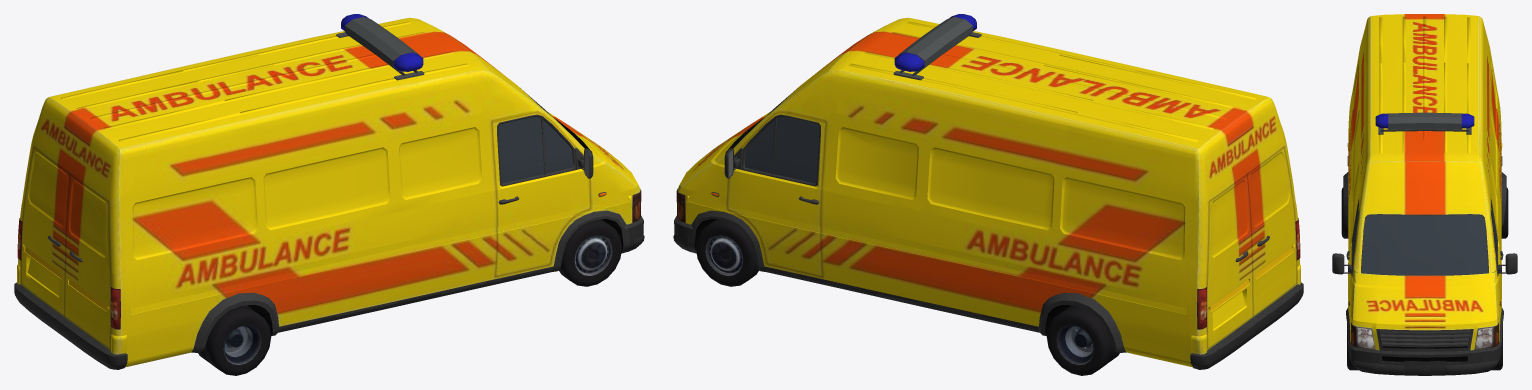
File: v_ambulance.glb
3 renders of one model, left to right at view 1: azimuth 30°, elevation 25°; view 2: azimuth 150°, elevation 25°; view 3: azimuth 270°, elevation 25°, orthographic. The views are drawn at different scales.
Visible parts, largest first — view 1: v_ambulance; view 2: v_ambulance; view 3: v_ambulance.
Boxes of the visible parts, x1,y1,x2,y2 form: v_ambulance: (14, 14, 644, 375); v_ambulance: (673, 14, 1303, 375); v_ambulance: (1332, 14, 1517, 375).
Bounding box in the file's own units: 6 × 2.64 × 2.3.
1 material, 1 textured.
